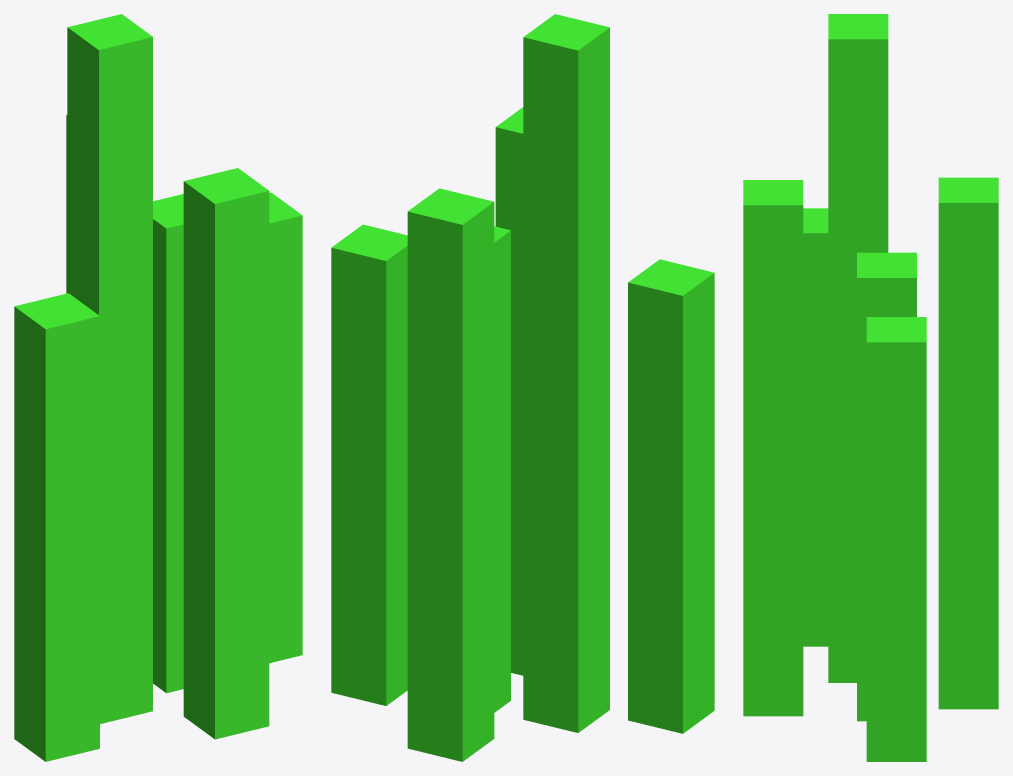
The model's file is grass_1.fbx.
3 renders of one model, left to right at view 1: azimuth 30°, elevation 25°; view 2: azimuth 150°, elevation 25°; view 3: azimuth 270°, elevation 25°, orthographic. The views are drawn at different scales.
Visible parts, largest first — view 1: GRASS; view 2: GRASS; view 3: GRASS.
Part boxes in pixels (x1=…): GRASS: x1=14, y1=14, x2=302, y2=761; GRASS: x1=331, y1=14, x2=714, y2=761; GRASS: x1=743, y1=14, x2=998, y2=761.
Size of the model in its own units: 5.39 by 11.49 by 4.13.
